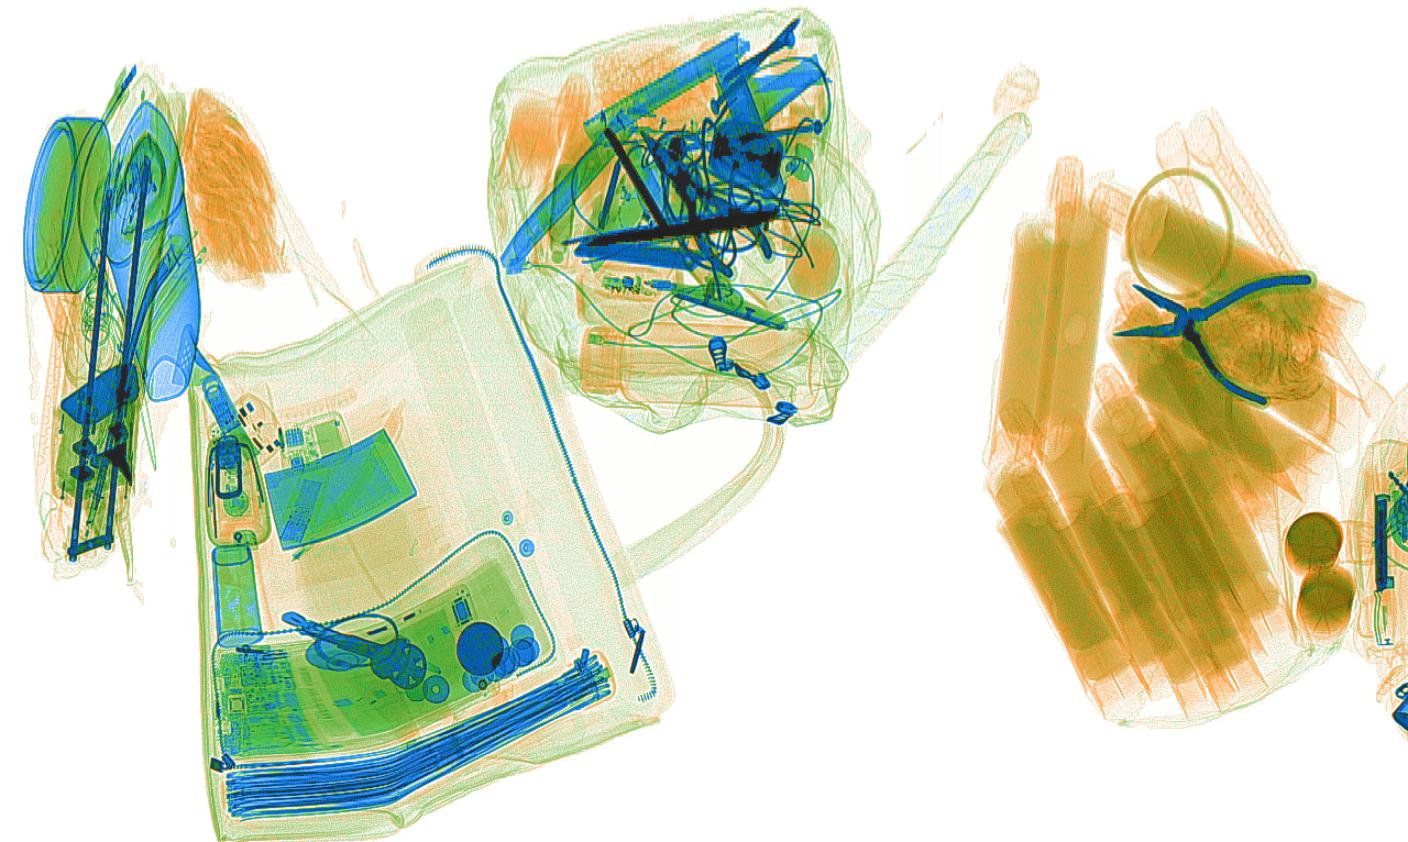USBFlashDisk: (200, 371, 255, 459), (279, 478, 325, 541)
knife: (495, 108, 637, 272), (582, 31, 752, 147), (712, 54, 785, 196), (572, 238, 706, 273)
